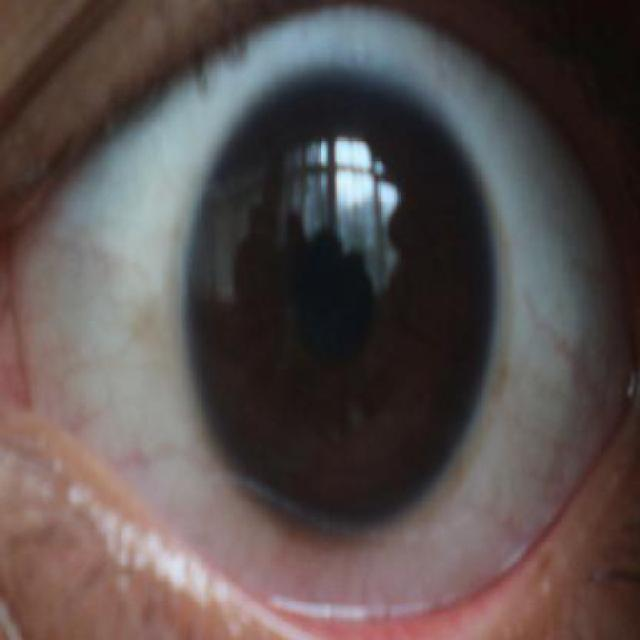Normal: (190, 71, 495, 531)
